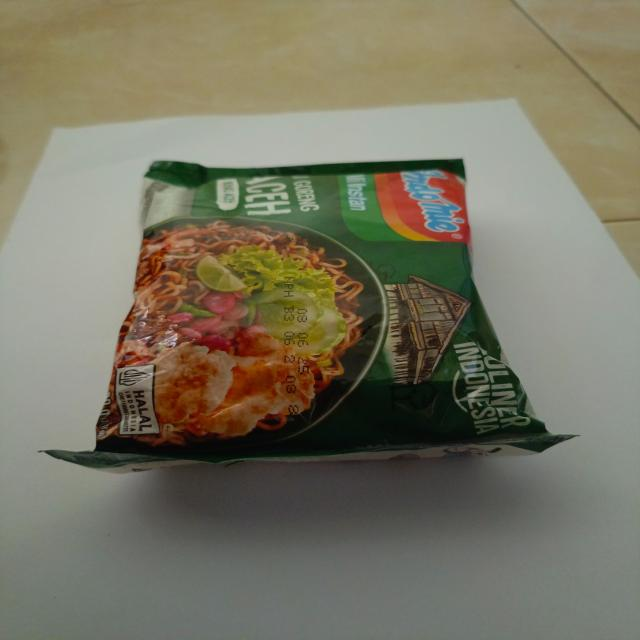gery-salut-coconut: (42, 157, 580, 476)
